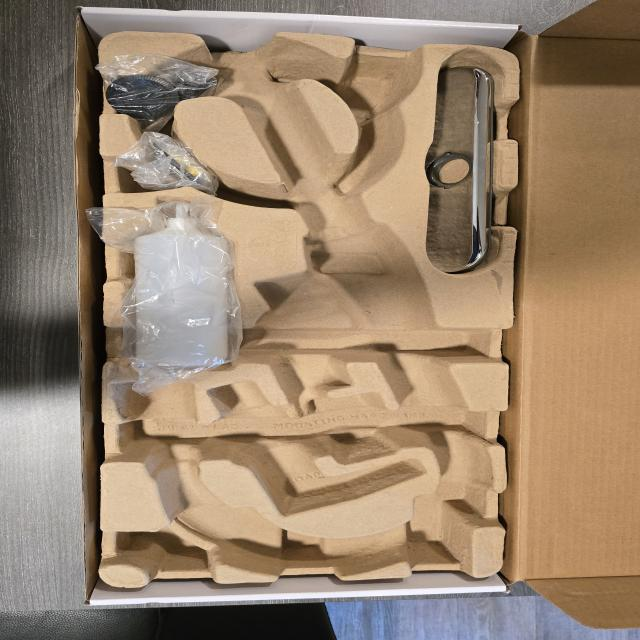1m: (118, 35, 493, 576)
2m: (203, 381, 424, 516)
3: (129, 202, 230, 367)
4: (427, 67, 495, 274)
5m: (344, 64, 411, 110)
6: (112, 129, 222, 194)
7: (92, 53, 221, 124)
